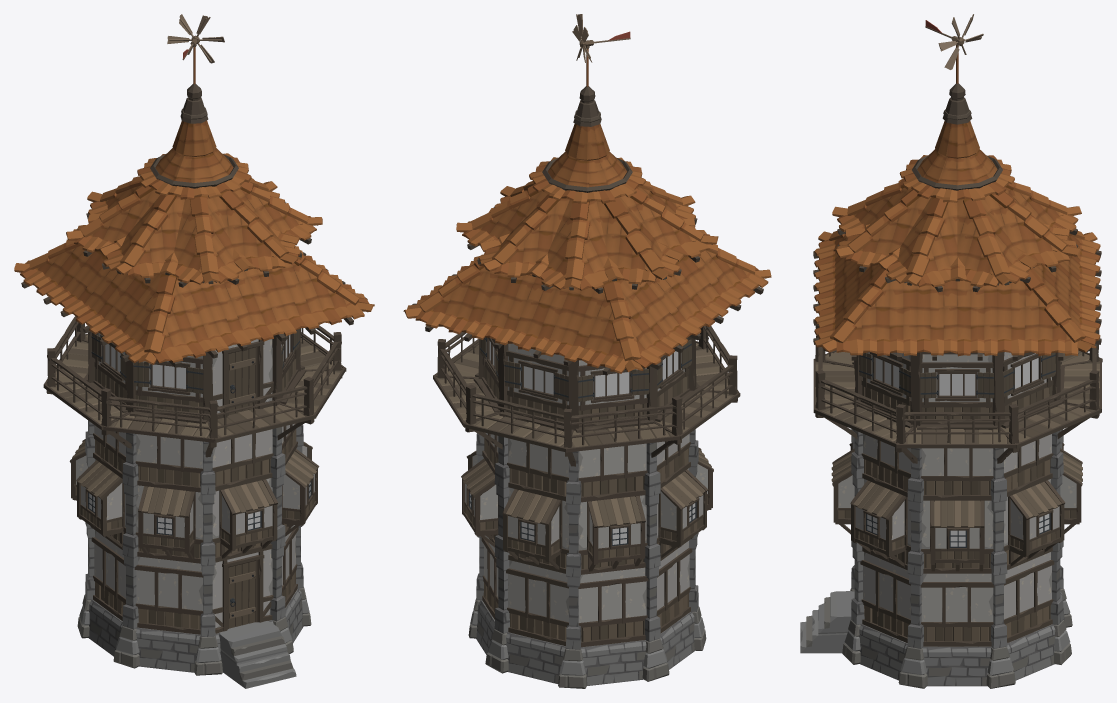
Rendered from SM_Bld_Preset_Tower_01_Optimized.fbx.
3 views of the same model, side by side, from view 1: azimuth 30°, elevation 25°; view 2: azimuth 150°, elevation 25°; view 3: azimuth 270°, elevation 25° (orthographic). The views are drawn at different scales.
Parts seen in each view (by area): view 1: SM_Bld_Preset_Tower_01_Optimized, SM_Bld_Preset_Tower_01_Glass; view 2: SM_Bld_Preset_Tower_01_Optimized, SM_Bld_Preset_Tower_01_Glass; view 3: SM_Bld_Preset_Tower_01_Optimized, SM_Bld_Preset_Tower_01_Glass.
Boxes of the visible parts, x1,y1,x2,y2 form: SM_Bld_Preset_Tower_01_Optimized: [14, 14, 374, 688]; SM_Bld_Preset_Tower_01_Glass: [89, 335, 310, 534]; SM_Bld_Preset_Tower_01_Optimized: [403, 14, 771, 688]; SM_Bld_Preset_Tower_01_Glass: [470, 341, 695, 544]; SM_Bld_Preset_Tower_01_Optimized: [800, 14, 1102, 688]; SM_Bld_Preset_Tower_01_Glass: [867, 358, 1049, 546].
Size of the model in its own units: 899 by 2146 by 938.
